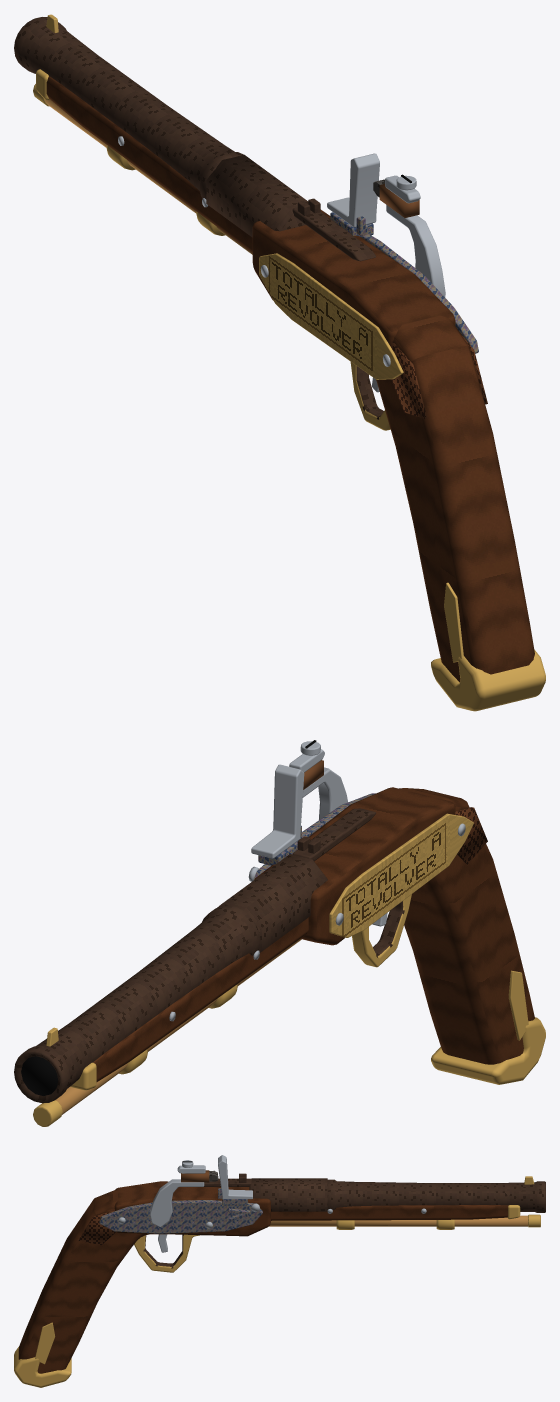
The model's file is w_revolver_flint.glb.
3 views of the same model, one above another, from view 1: azimuth 30°, elevation 25°; view 2: azimuth 150°, elevation 25°; view 3: azimuth 270°, elevation 25° (orthographic). The views are drawn at different scales.
Parts seen in each view (by area): view 1: flint_body_wzA, flint_body_wzB, flint_body_wzN, cock_wzB; view 2: flint_body_wzA, flint_body_wzB, flint_body_wzN, cock_wzB; view 3: flint_body_wzA, flint_body_wzB, cock_wzB.
Part boxes in pixels (x1=…): flint_body_wzA: x1=45, y1=76, x2=534, y2=682; flint_body_wzB: x1=14, y1=14, x2=545, y2=711; flint_body_wzN: x1=259, y1=253, x2=403, y2=379; cock_wzB: x1=373, y1=174, x2=445, y2=297; flint_body_wzA: x1=55, y1=787, x2=534, y2=1114; flint_body_wzB: x1=14, y1=764, x2=545, y2=1126; flint_body_wzN: x1=329, y1=813, x2=473, y2=937; cock_wzB: x1=289, y1=740, x2=347, y2=819; flint_body_wzA: x1=18, y1=1181, x2=528, y2=1373; flint_body_wzB: x1=14, y1=1155, x2=545, y2=1387; cock_wzB: x1=149, y1=1160, x2=218, y2=1227.
Size of the model in its own units: 0.0499 by 0.2097 by 0.4348.
11 materials, 6 textured.
